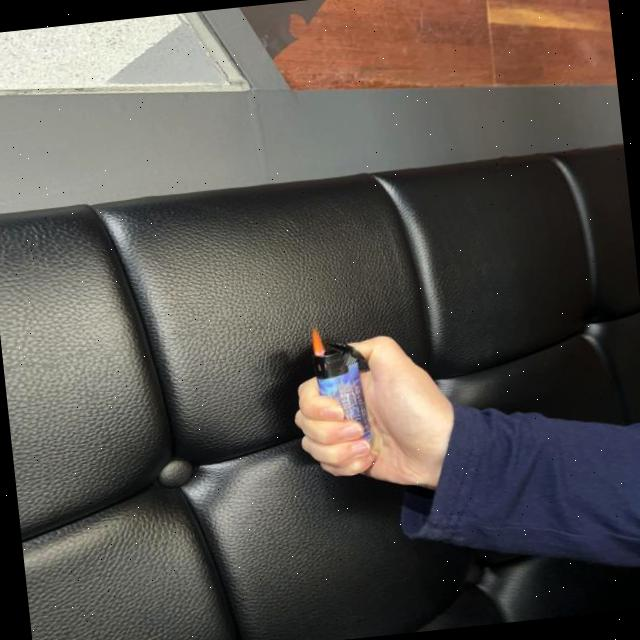fire: (308, 328, 326, 357)
